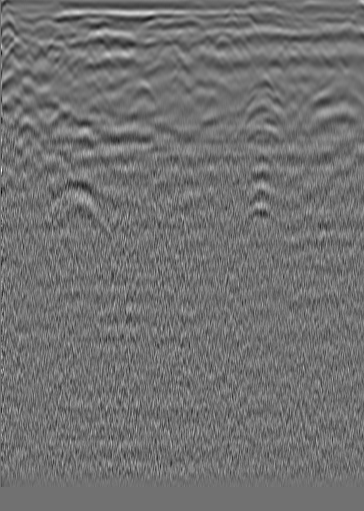가스: (244, 180, 277, 215)
상수: (6, 35, 26, 55)
오수: (317, 22, 337, 42)
우수: (162, 33, 182, 53)
